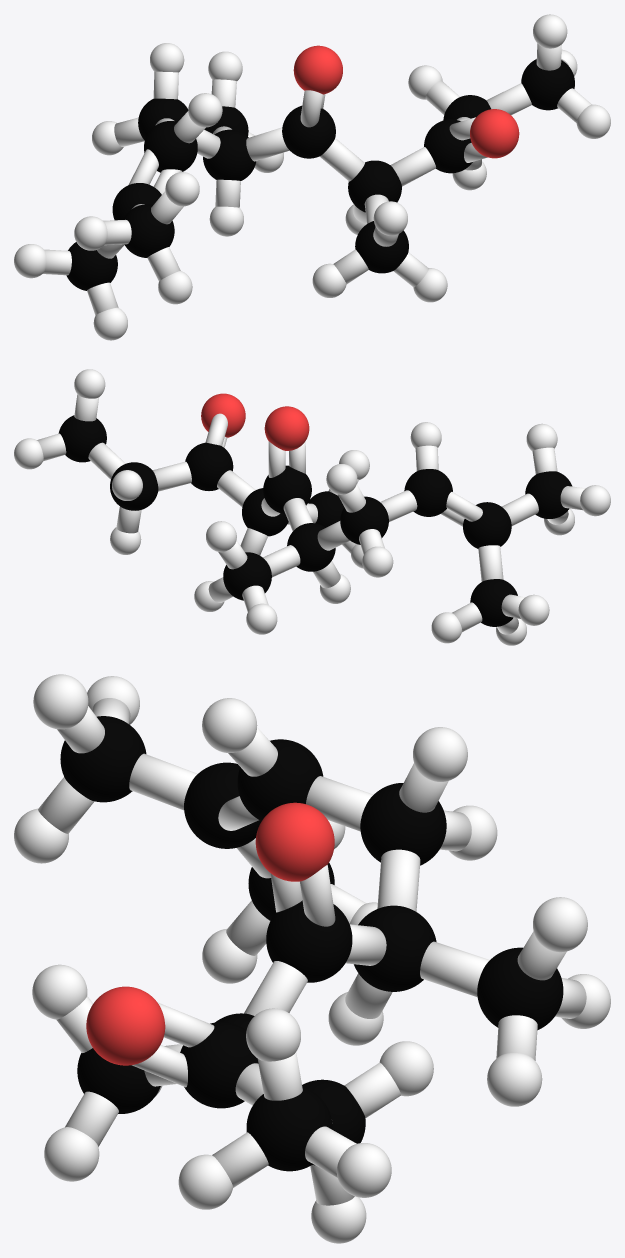
3 renders of one model, top to bottom at view 1: azimuth 30°, elevation 25°; view 2: azimuth 150°, elevation 25°; view 3: azimuth 270°, elevation 25°, orthographic. The views are drawn at different scales.
Visible parts, largest first — view 1: molecule; view 2: molecule; view 3: molecule.
Boxes of the visible parts, left/top/right/bottom form: molecule: left=14, top=14, right=610, bottom=340; molecule: left=14, top=369, right=610, bottom=645; molecule: left=14, top=674, right=610, bottom=1243.
Size of the model in its own units: 11.62 by 4.26 by 6.5.
